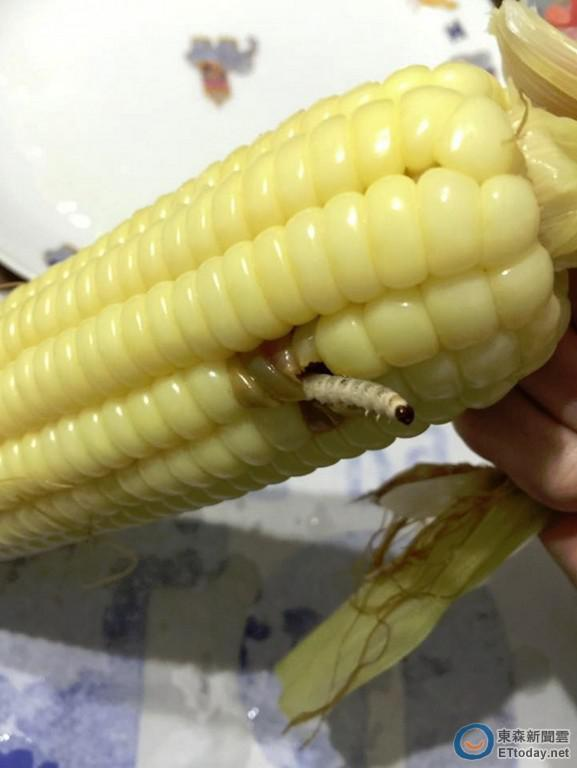caterpillars: (270, 348, 441, 459)
